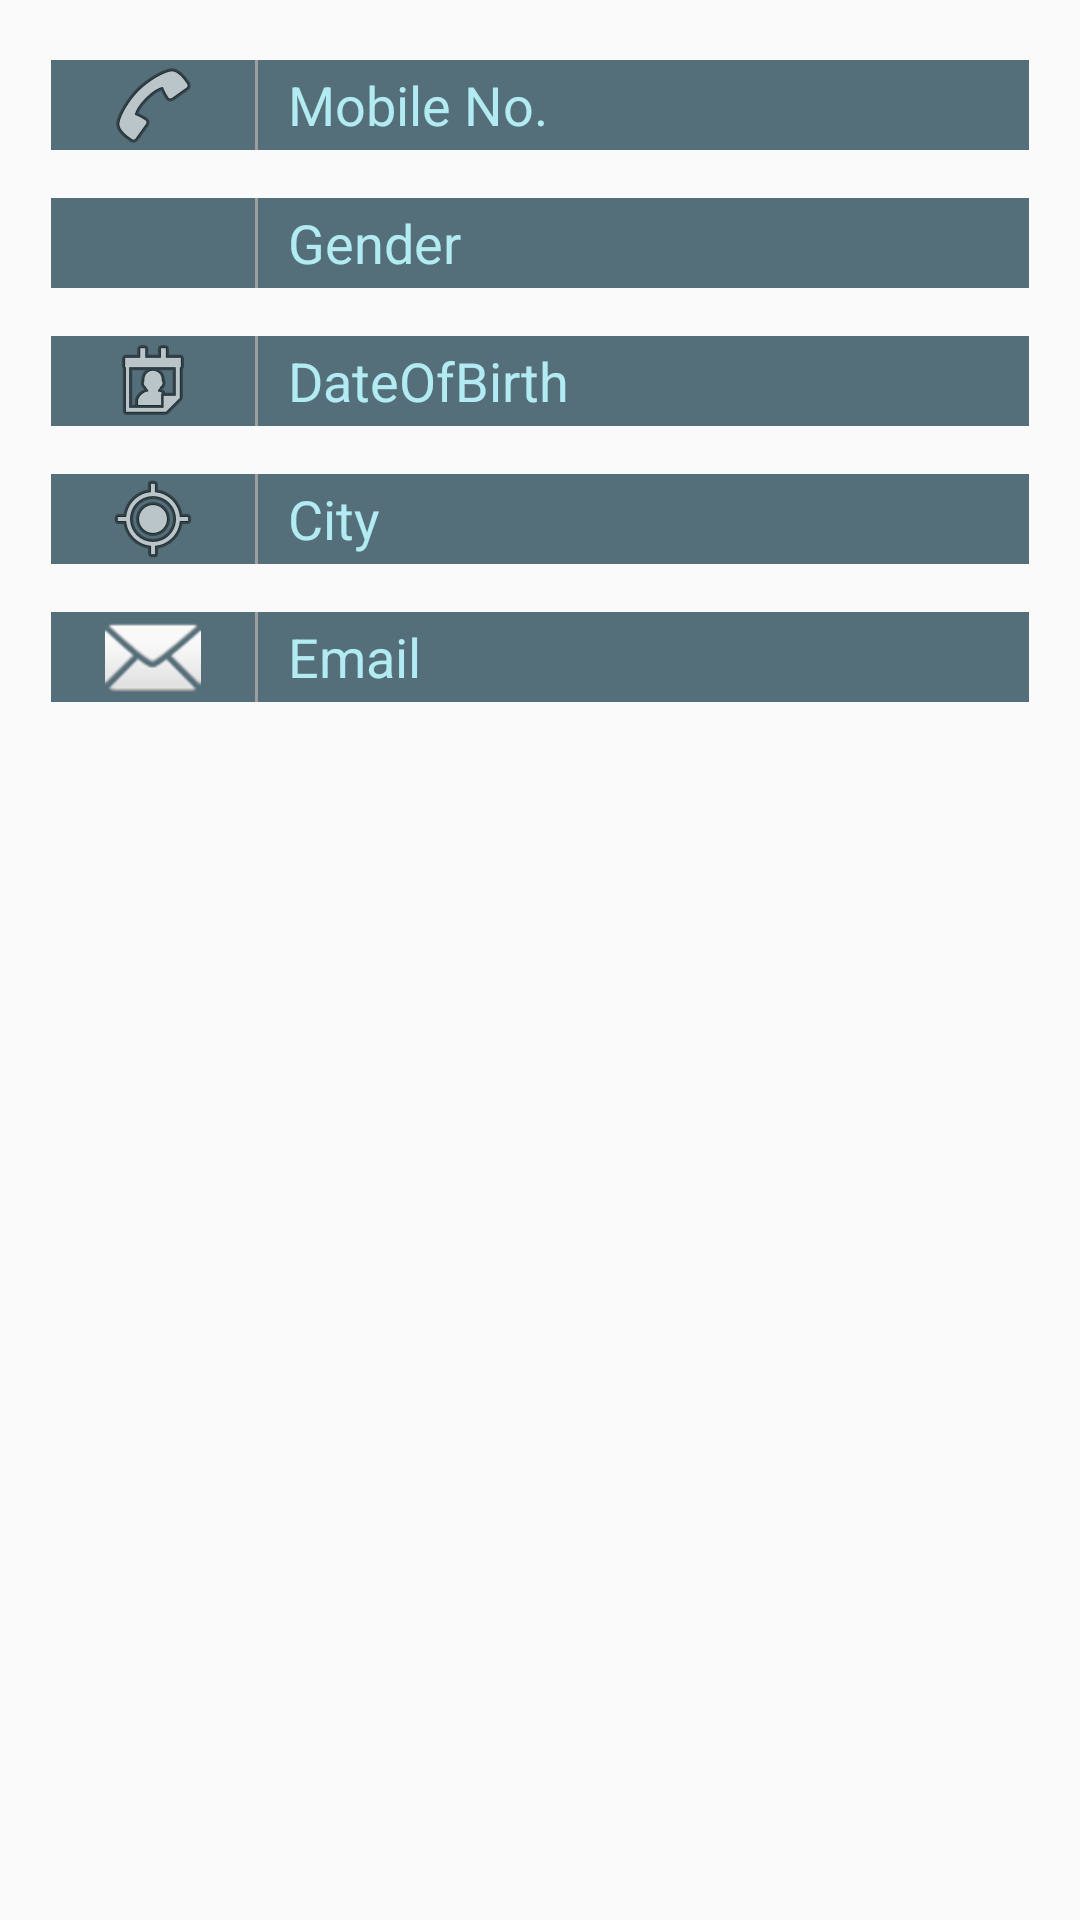

Icons on this 1080*1920 Android screen, each with its box as (x1, y1, x2, y2):
calendar: (51, 336, 255, 426)
call: (51, 60, 255, 150)
mylocation: (51, 474, 255, 564)
